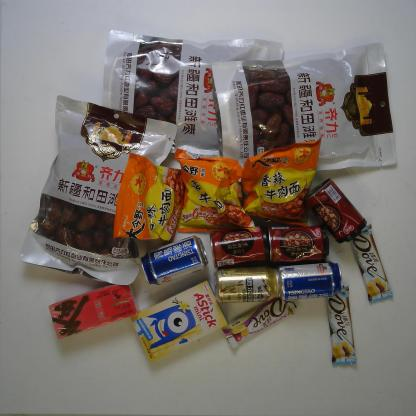Alcohol: (140, 233, 209, 285), (277, 260, 343, 302), (212, 267, 282, 304)
Canned Food: (304, 177, 367, 244), (266, 224, 330, 266), (209, 226, 271, 269)
Chocolate: (220, 291, 298, 348), (351, 223, 394, 304), (326, 284, 358, 366)
Dessert: (130, 278, 229, 362)
Dried Food: (17, 94, 179, 287), (211, 40, 399, 172), (100, 28, 286, 158)
Instant Drink: (47, 283, 139, 340)
Instant Noodles: (239, 136, 324, 228), (174, 147, 256, 234), (112, 152, 187, 246)
